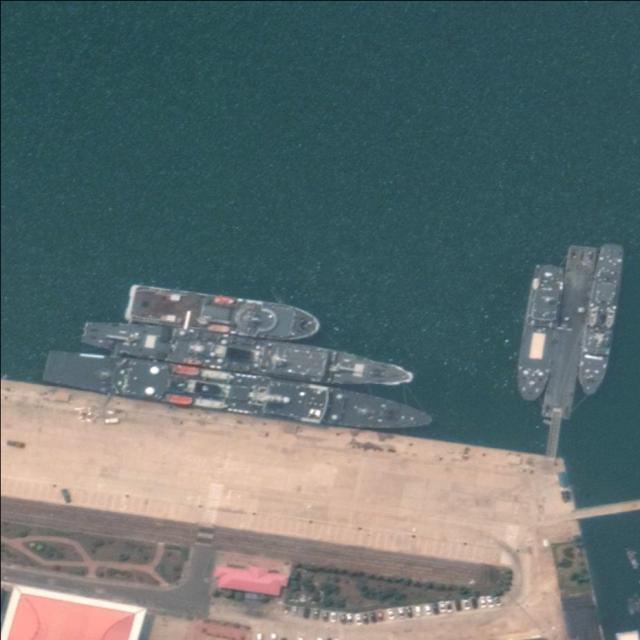Dock: (544, 243, 597, 419)
Landing: (511, 260, 567, 403)
Other Warship: (43, 345, 434, 442), (80, 313, 418, 400), (126, 282, 323, 347), (575, 242, 628, 398)
